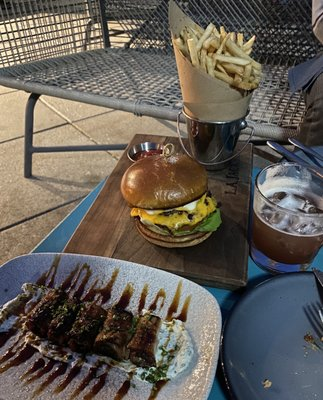pizza: (249, 162, 323, 275)
